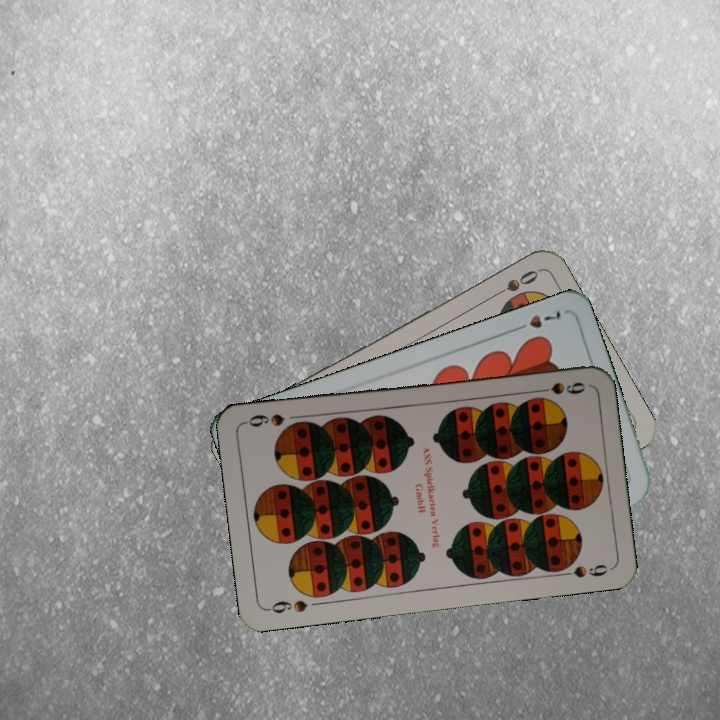H7: (509, 306, 564, 335)
S9: (529, 378, 588, 397), (263, 596, 311, 616)
SO: (486, 265, 541, 301)
